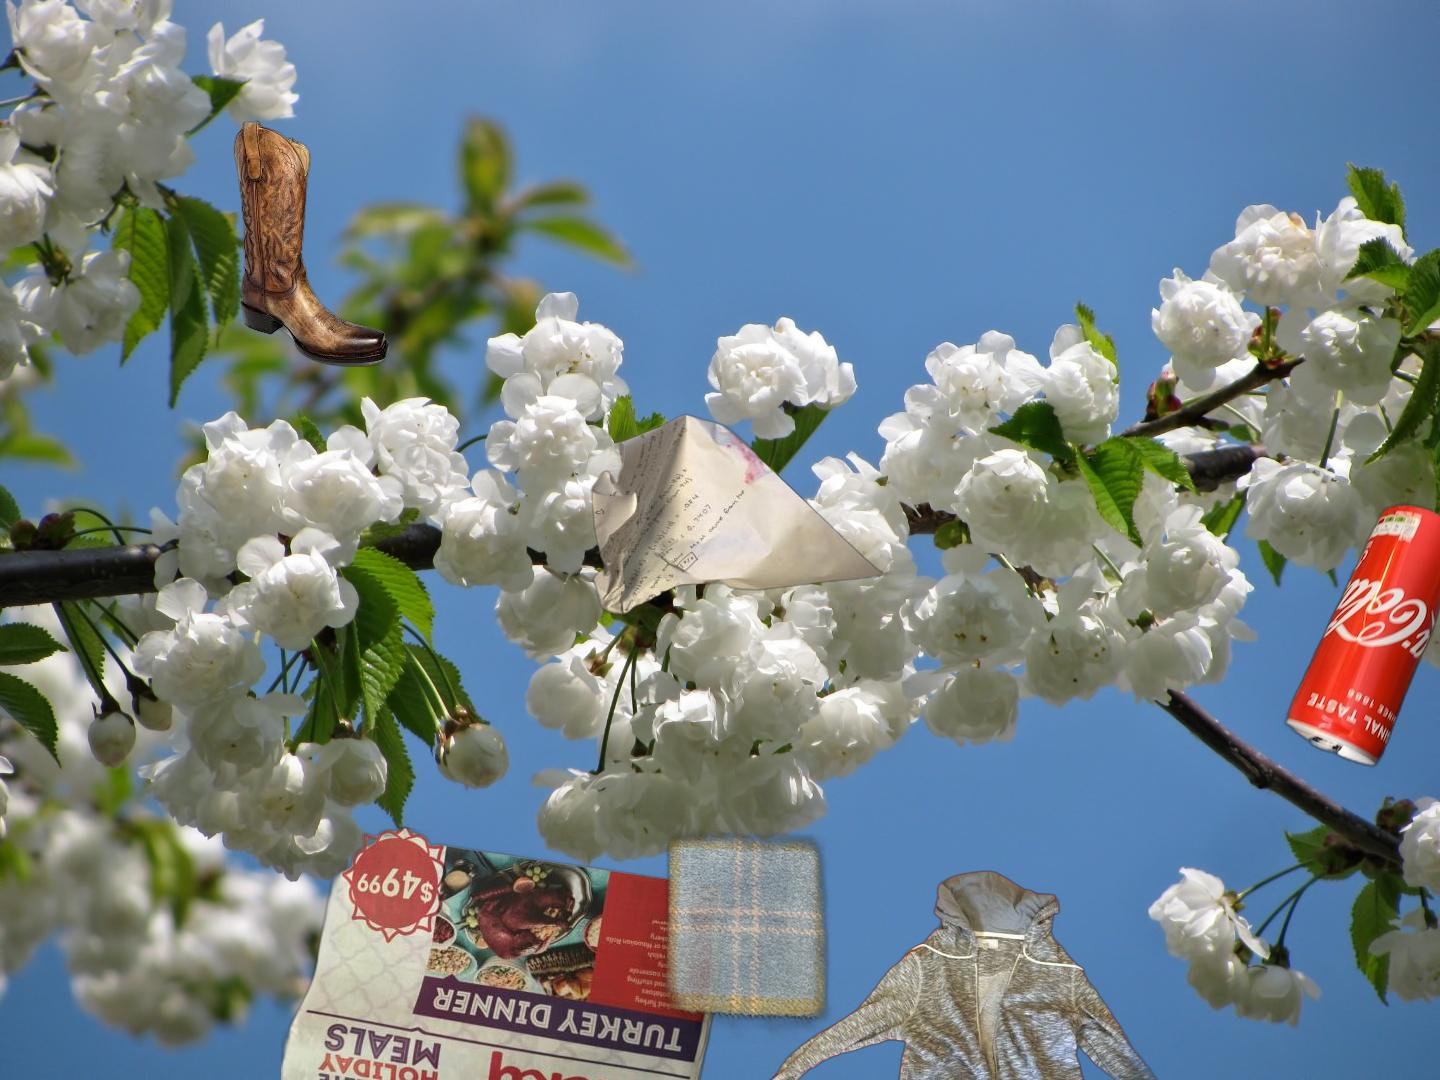clothes: (723, 868, 1244, 1080)
metal-cans: (558, 437, 838, 1044), (1279, 498, 1440, 773)
paper: (281, 822, 730, 1080), (587, 411, 895, 618)
shoes: (231, 118, 393, 370)
